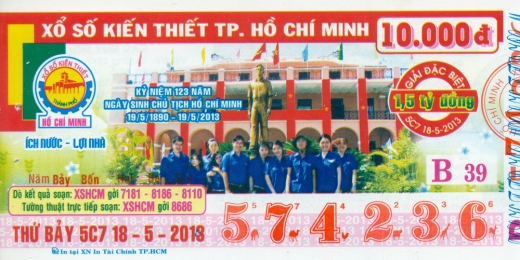serial_zone: (215, 194, 505, 247)
